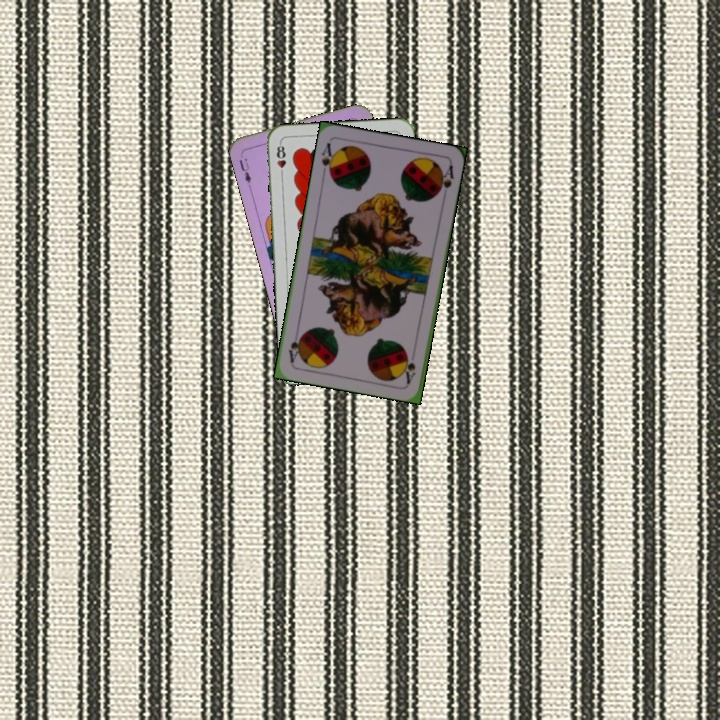EU: (235, 154, 254, 190)
H8: (273, 139, 288, 180)
SA: (318, 138, 338, 180), (401, 351, 418, 386)
